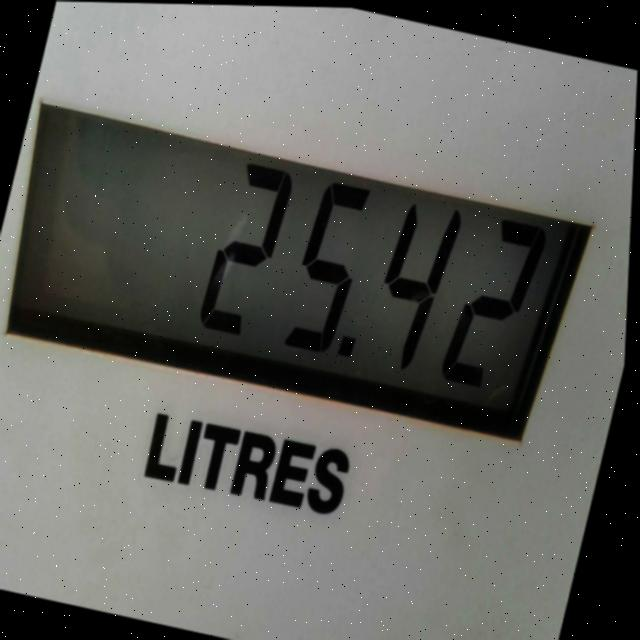.: (332, 321, 366, 374)
2: (184, 141, 318, 343), (436, 195, 560, 402)
4: (360, 190, 473, 383)
5: (277, 174, 380, 365)
